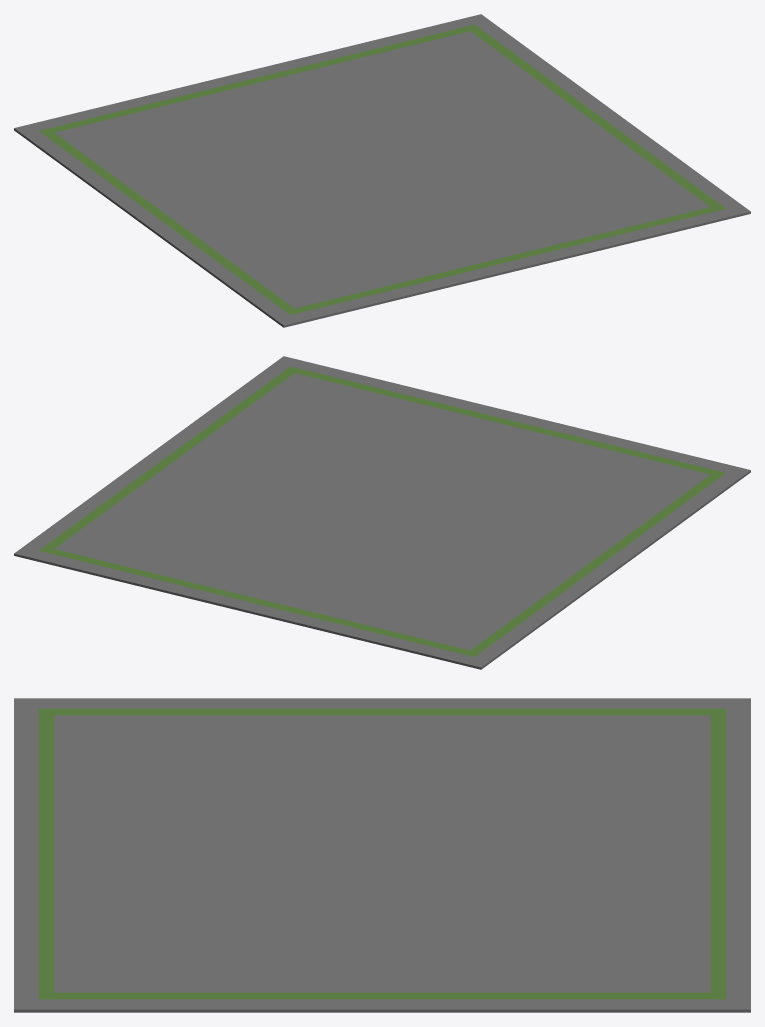
File: Tapete.fbx
3 views of the same model, one above another, from view 1: azimuth 30°, elevation 25°; view 2: azimuth 150°, elevation 25°; view 3: azimuth 270°, elevation 25° (orthographic). The views are drawn at different scales.
Parts seen in each view (by area): view 1: Plane.002; view 2: Plane.002; view 3: Plane.002.
Boxes of the visible parts, bbox=[...] form: Plane.002: bbox=[14, 14, 750, 327]; Plane.002: bbox=[14, 356, 750, 669]; Plane.002: bbox=[14, 698, 750, 1012].
Bounding box in the file's own units: 2279 × 10.59 × 2279.
